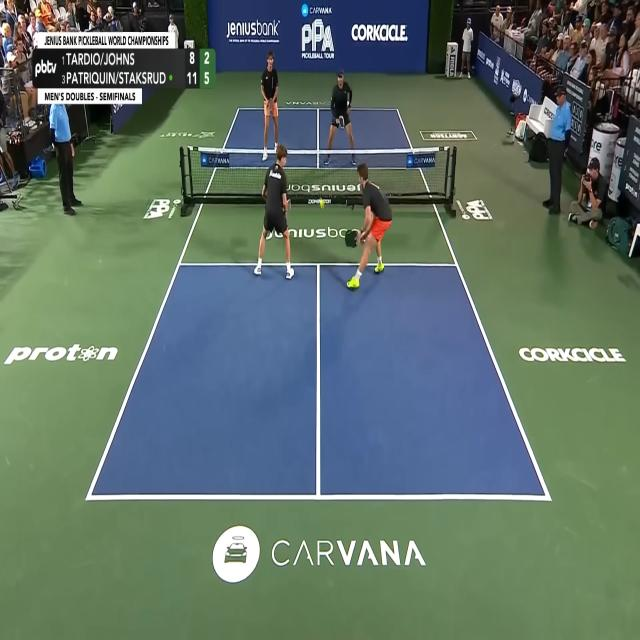ball: (320, 198, 326, 209)
